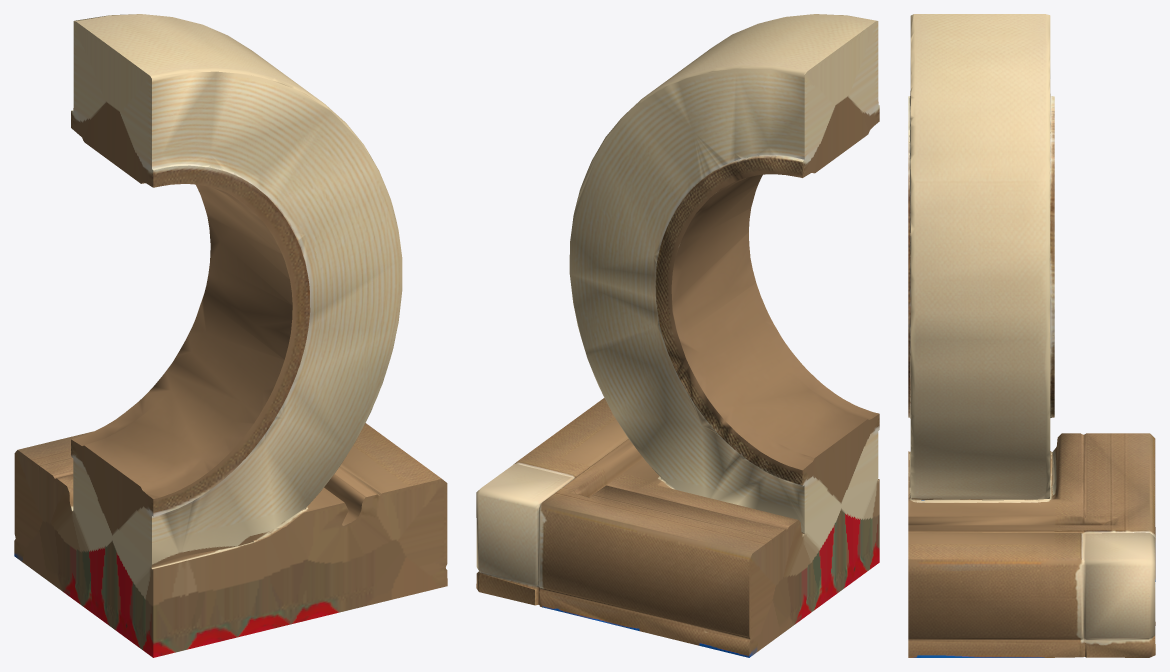
Rendered from 16-topper-back-right.fbx.
3 views of the same model, side by side, from view 1: azimuth 30°, elevation 25°; view 2: azimuth 150°, elevation 25°; view 3: azimuth 270°, elevation 25° (orthographic). The views are drawn at different scales.
Parts seen in each view (by area): view 1: topper-back-right; view 2: topper-back-right; view 3: topper-back-right.
Boxes of the visible parts, x1,y1,x2,y2 form: topper-back-right: (14, 14, 447, 657); topper-back-right: (476, 14, 879, 657); topper-back-right: (908, 14, 1155, 657).
Bounding box in the file's own units: 5044 × 9492 × 4122.
Materials: 1 (1 with a texture image).
